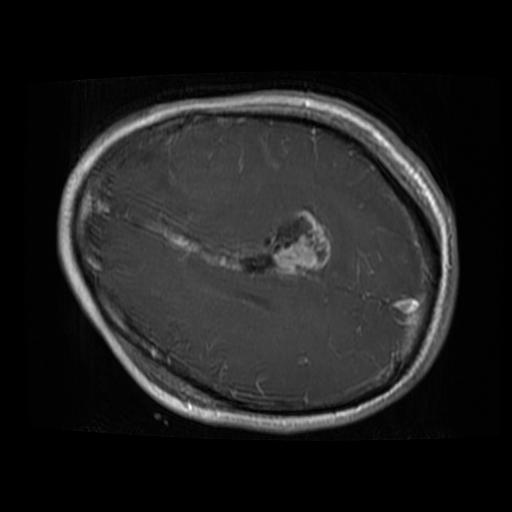glioma: (238, 210, 333, 281)
